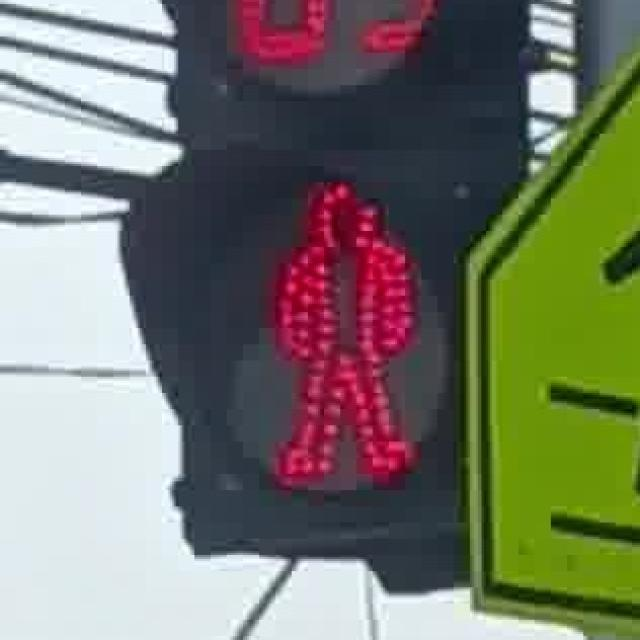red_light: (251, 164, 425, 494)
